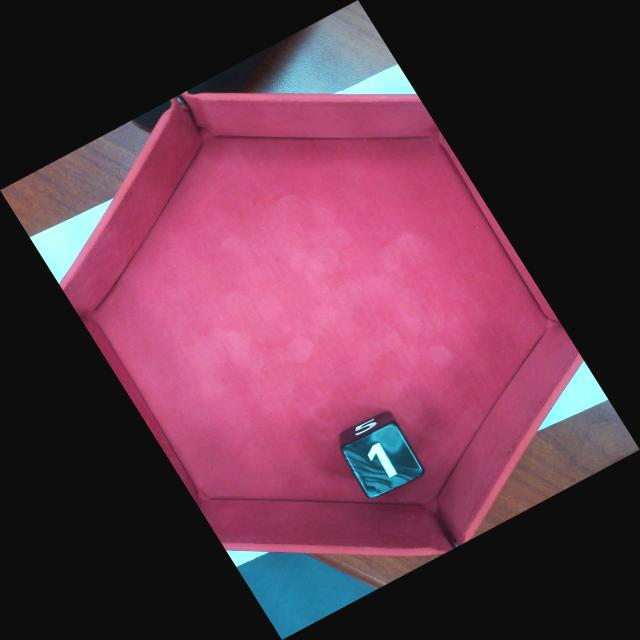dice: (342, 422, 425, 499)
